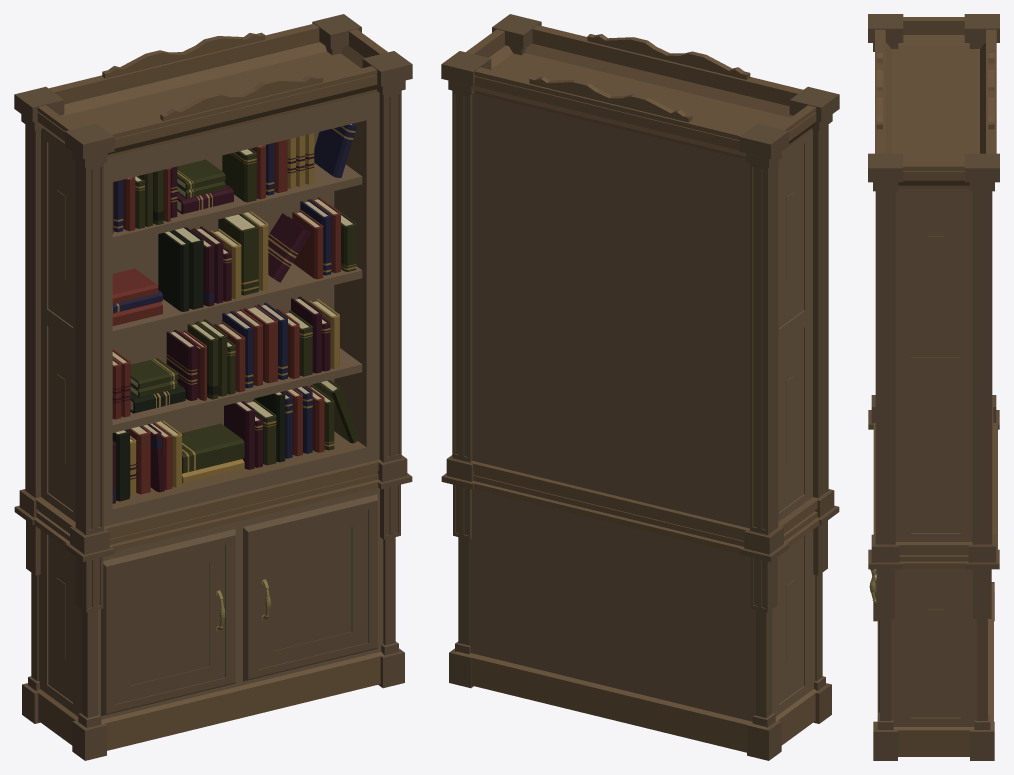
The model's file is Bookcase with Books.glb.
3 renders of one model, left to right at view 1: azimuth 30°, elevation 25°; view 2: azimuth 150°, elevation 25°; view 3: azimuth 270°, elevation 25°, orthographic. The views are drawn at different scales.
Parts seen in each view (by area): view 1: BookCase_Single, BookCase_RightDoor, BookCase_LeftDoor; view 2: BookCase_Single; view 3: BookCase_Single, BookCase_RightDoor.
Boxes of the visible parts, x1,y1,x2,y2 form: BookCase_Single: (14, 14, 412, 760); BookCase_RightDoor: (243, 494, 377, 681); BookCase_LeftDoor: (101, 529, 235, 716); BookCase_Single: (441, 14, 839, 760); BookCase_Single: (868, 14, 999, 760); BookCase_RightDoor: (869, 569, 879, 712).
Size of the model in its own units: 1.84 by 3.37 by 0.6644.
